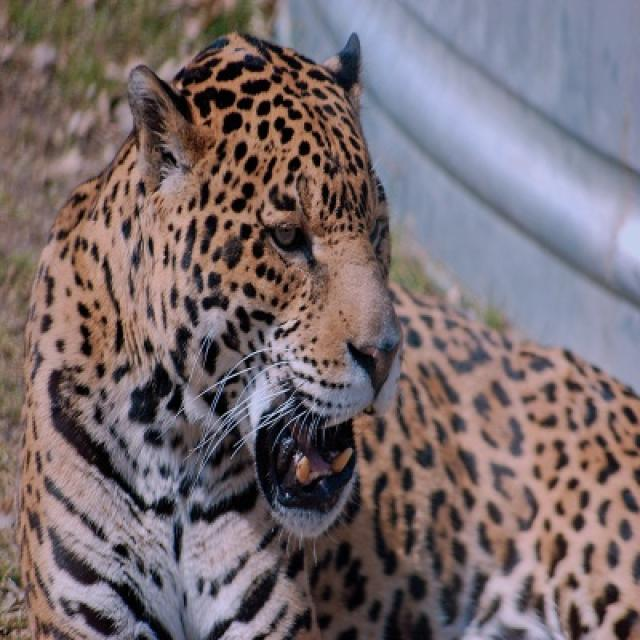not_pig: (13, 29, 638, 638)
